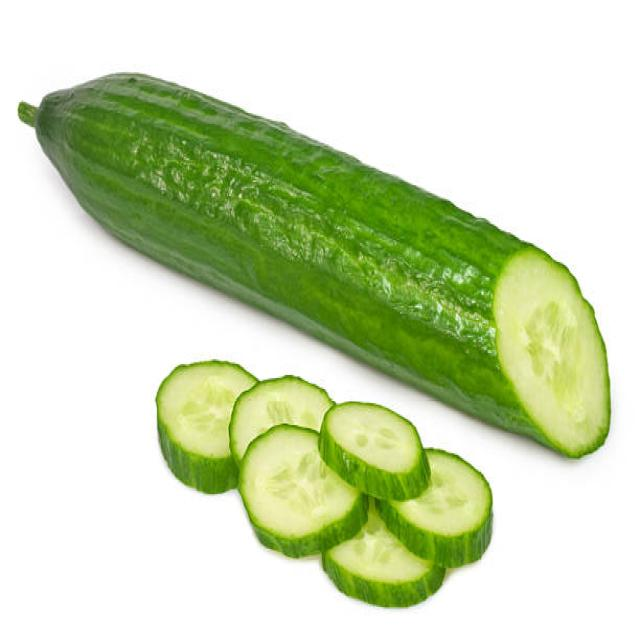cucumber: (35, 71, 613, 461)
